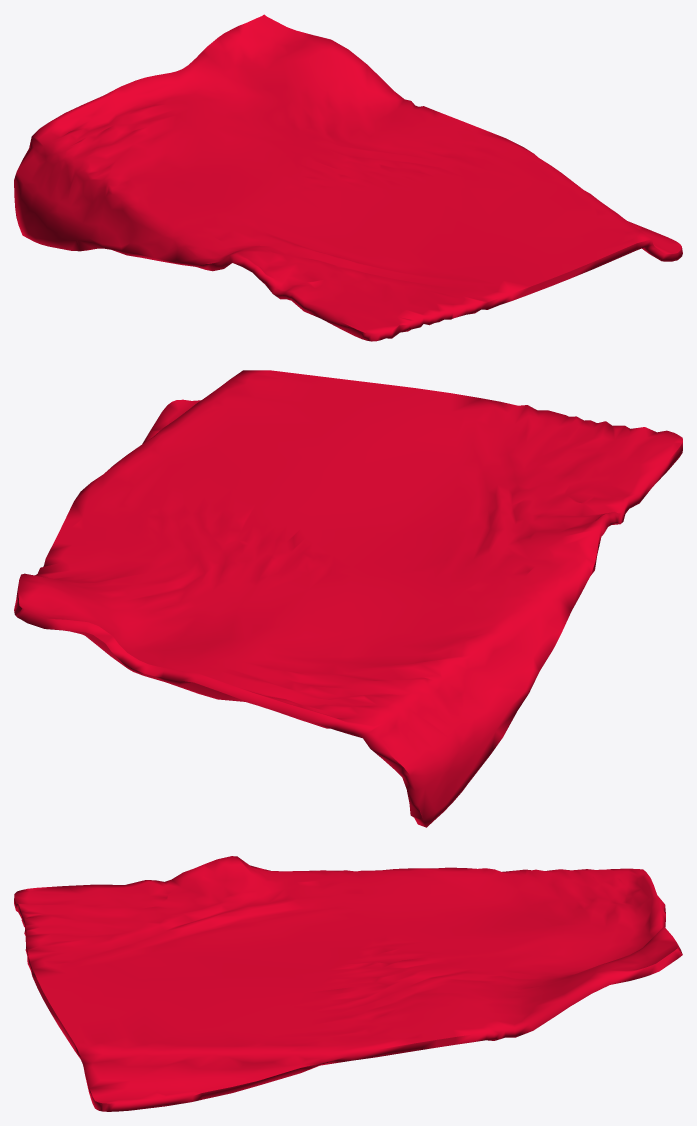
File: m_blanket01.fbx
3 renders of one model, top to bottom at view 1: azimuth 30°, elevation 25°; view 2: azimuth 150°, elevation 25°; view 3: azimuth 270°, elevation 25°, orthographic. The views are drawn at different scales.
Visible parts, largest first — view 1: m_blanket01; view 2: m_blanket01; view 3: m_blanket01.
Part boxes in pixels (bbox=[...]): m_blanket01: bbox=[14, 14, 682, 341]; m_blanket01: bbox=[14, 370, 682, 827]; m_blanket01: bbox=[14, 856, 682, 1111].
Bounding box in the file's own units: 123 × 34.87 × 155.
